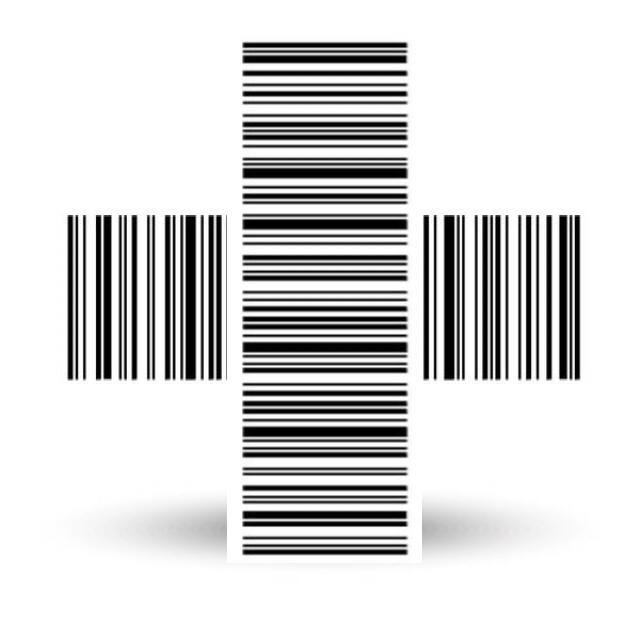Barkod: (143, 116, 506, 479)
